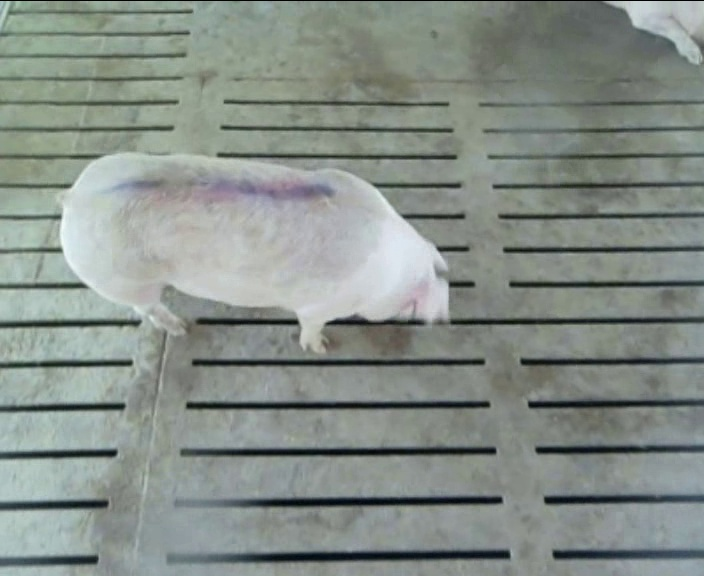pig: (61, 153, 447, 352)
